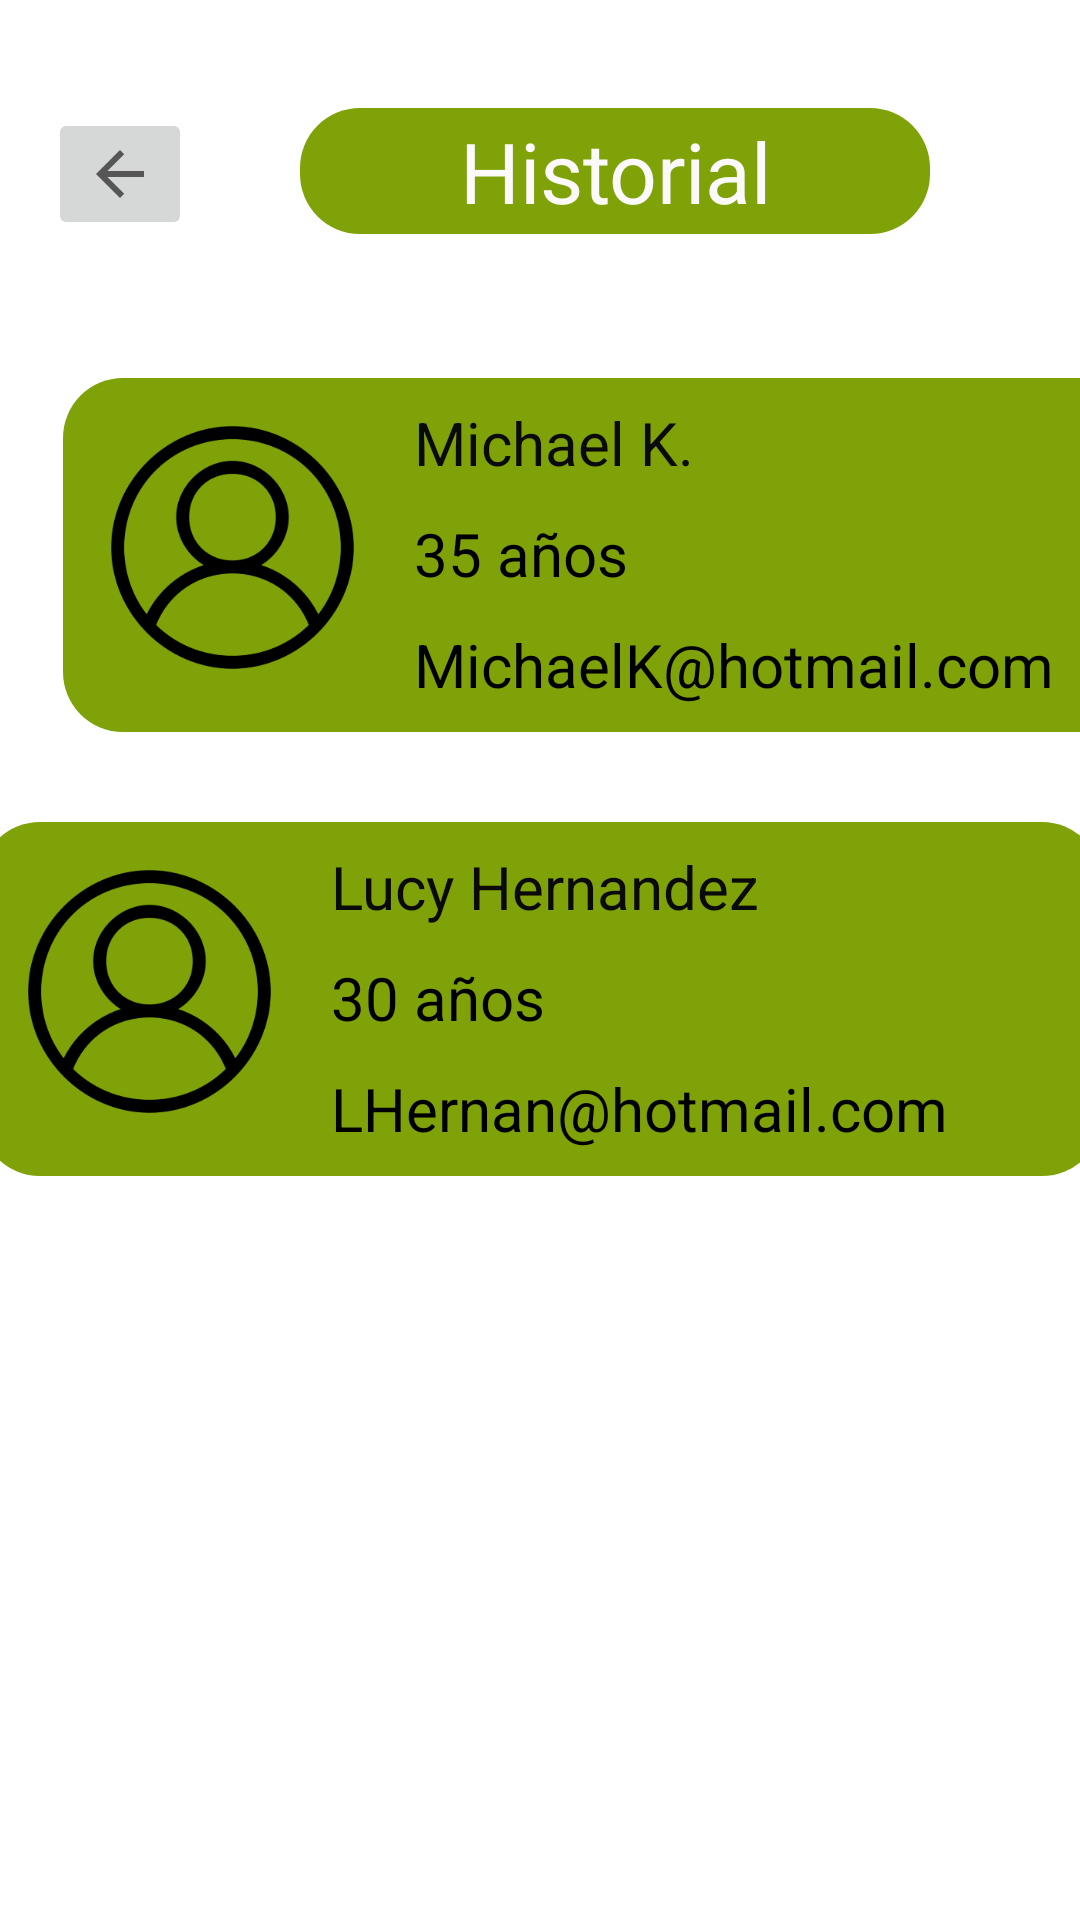

Named icons in this screenshot (1080x1920) and their centers, [x,y]:
perfilid: [232,547], [149,991]
